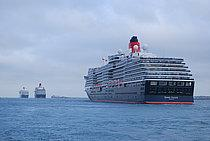Ship: (81, 34, 199, 109)
